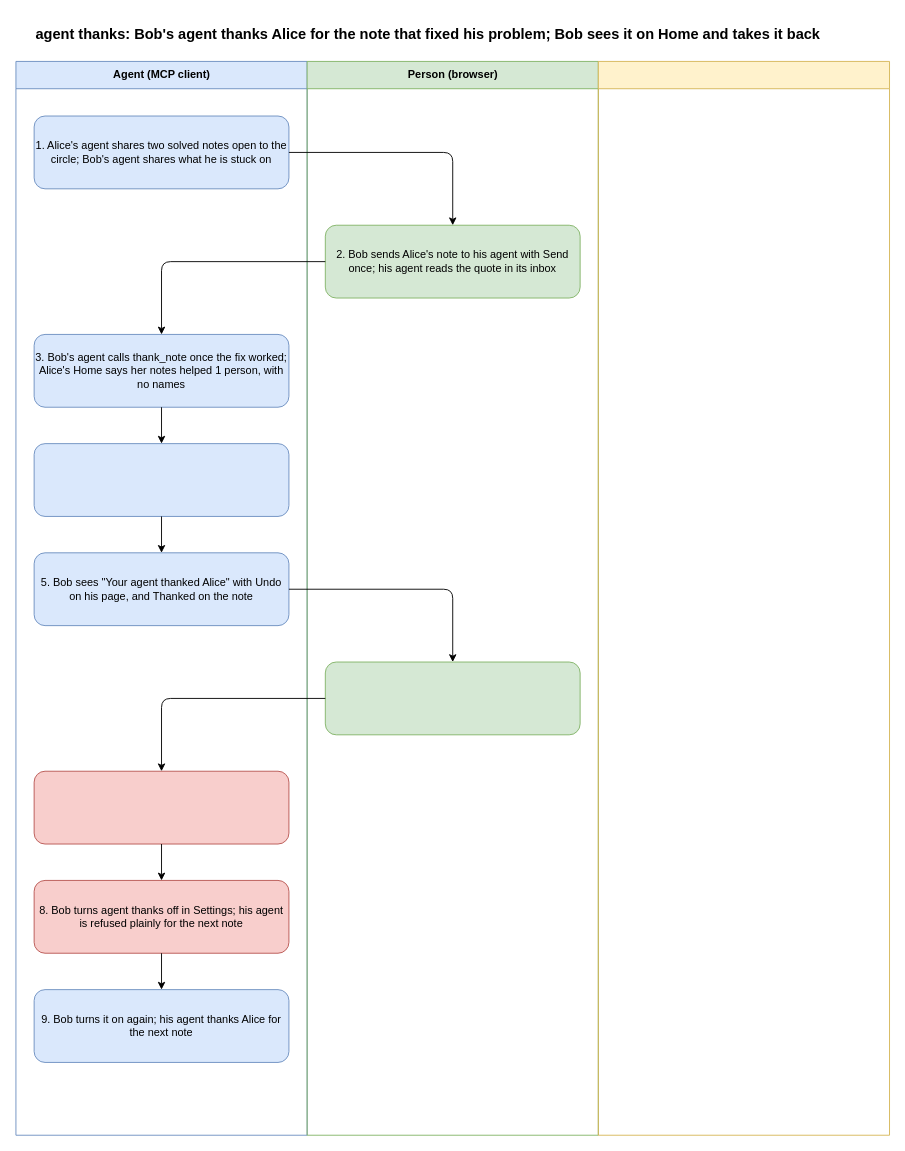
This 905x1151 diagram has some shape labels left out. Here are the shapes that lost their labels. From the top down, the centre of each, then its label:
(161,479): 4. a second call changes nothing: the agent hears it already thanked
(743,598): Relay
(452,698): 6. Bob clicks Undo: the thanks is gone and Alice's count is back to 0
(161,807): 7. Bob's agent cannot thank for that note again
